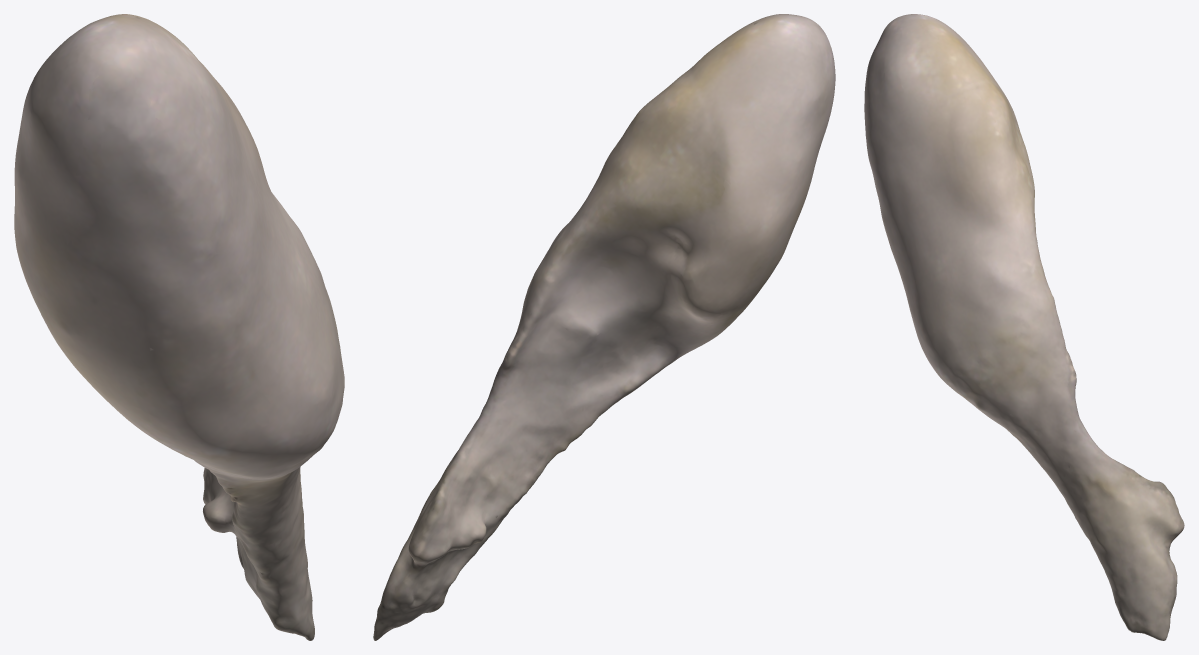
3 renders of one model, left to right at view 1: azimuth 30°, elevation 25°; view 2: azimuth 150°, elevation 25°; view 3: azimuth 270°, elevation 25°, orthographic. The views are drawn at different scales.
Parts seen in each view (by area): view 1: P1_li_unten_pferd.001; view 2: P1_li_unten_pferd.001; view 3: P1_li_unten_pferd.001.
Part boxes in pixels (left/top/right/bottom): P1_li_unten_pferd.001: left=14, top=14, right=344, bottom=640; P1_li_unten_pferd.001: left=373, top=14, right=835, bottom=640; P1_li_unten_pferd.001: left=864, top=14, right=1184, bottom=640.
Size of the model in its own units: 497 by 876 by 499.
Materials: 1 (1 with a texture image).
